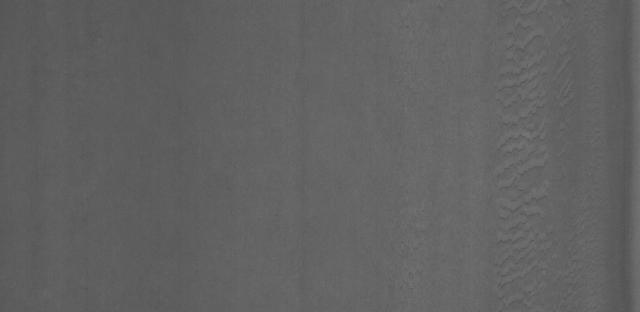silk_spot: (477, 17, 571, 310)
